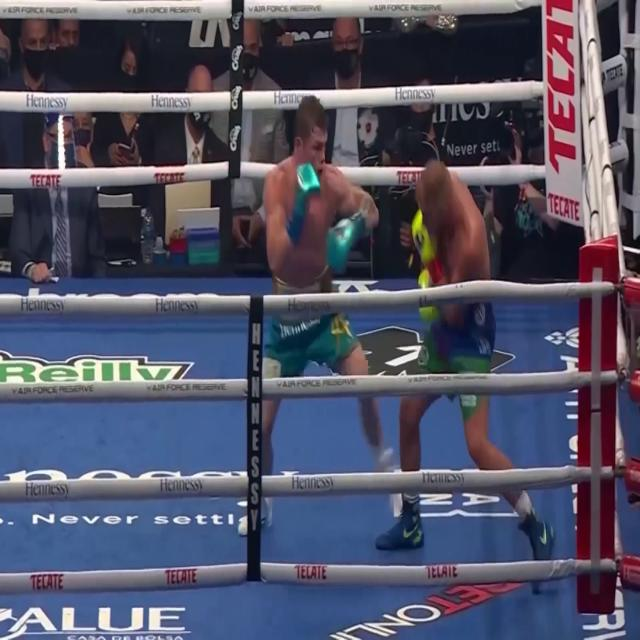boxer_1: (417, 161, 493, 299)
boxer_2: (272, 96, 332, 283)
gloves_1: (412, 207, 444, 287), (421, 306, 439, 321)
gloves_2: (287, 161, 321, 242), (326, 212, 366, 272)
